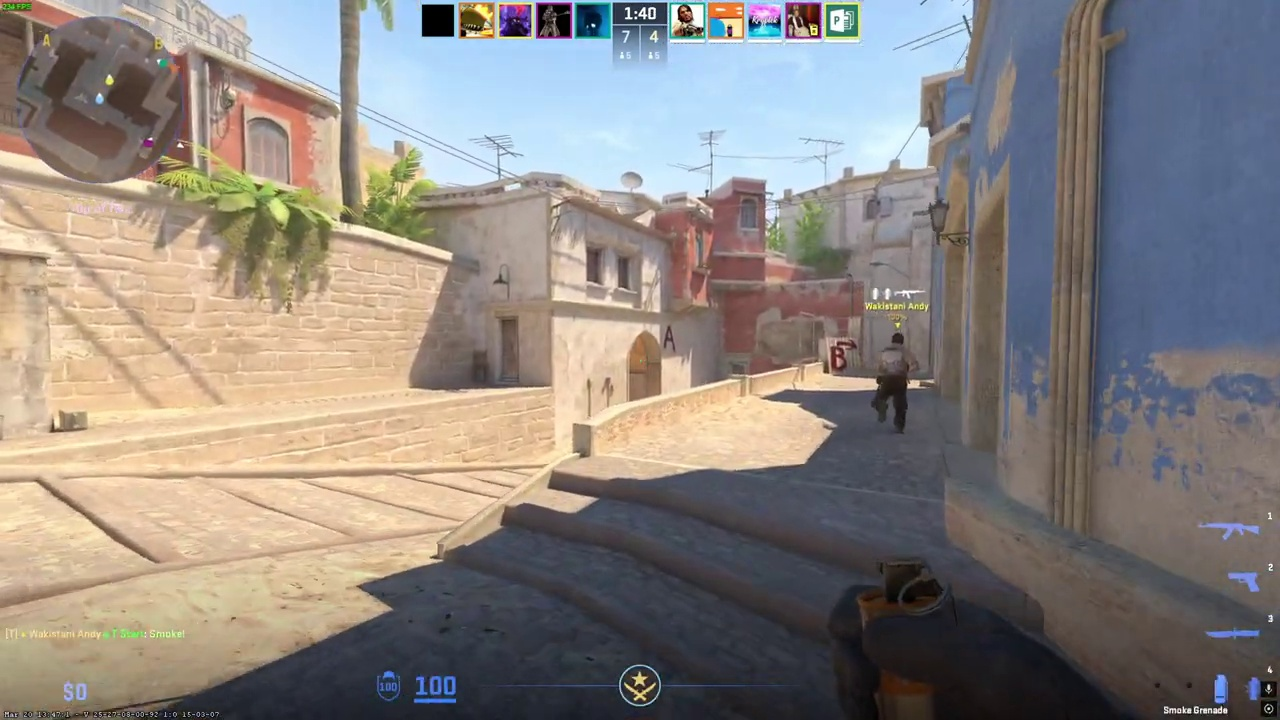Terrorist: (874, 332, 914, 434)
